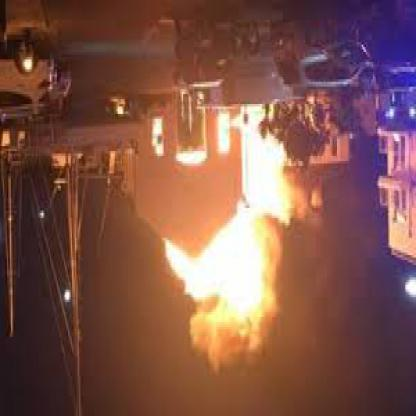Fire: (206, 235, 266, 340)
